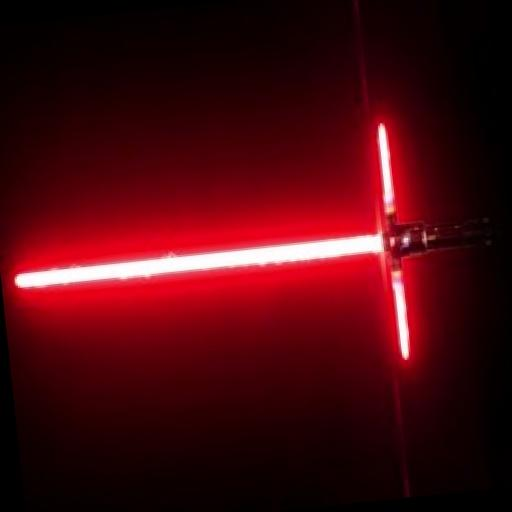sith saber: (0, 109, 510, 407)
